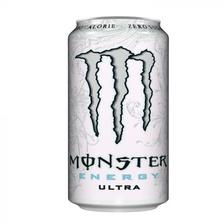Metal: (67, 16, 170, 212)
